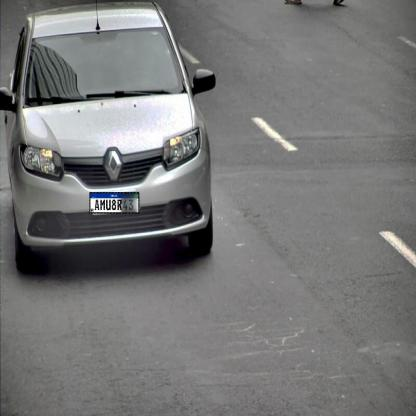PlacaM: (90, 192, 140, 214)
